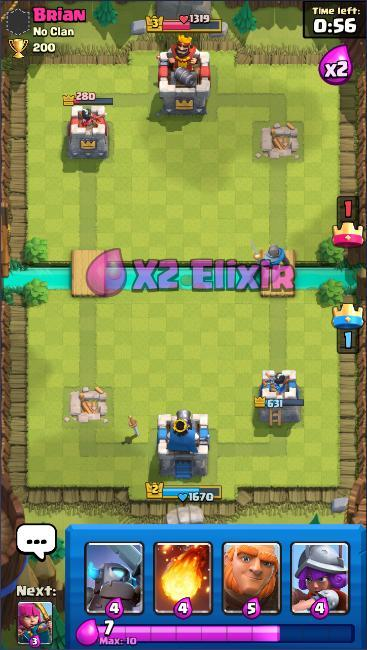ally_knight: (248, 236, 293, 274)
